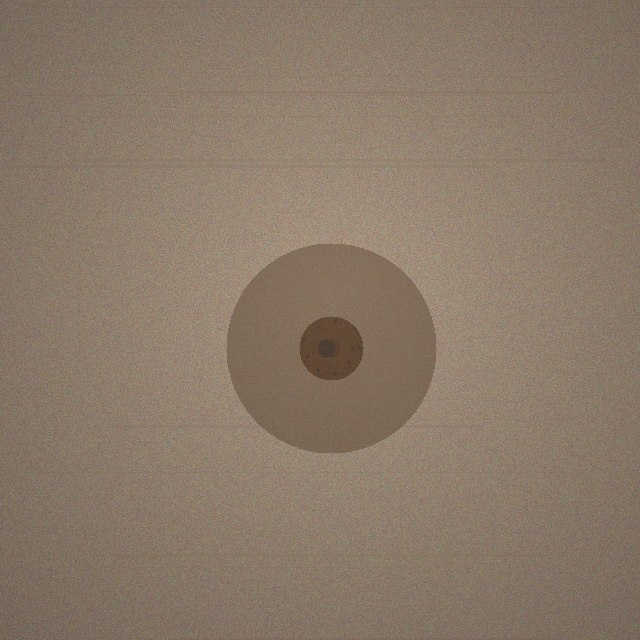cold_weld: (226, 243, 436, 453)
